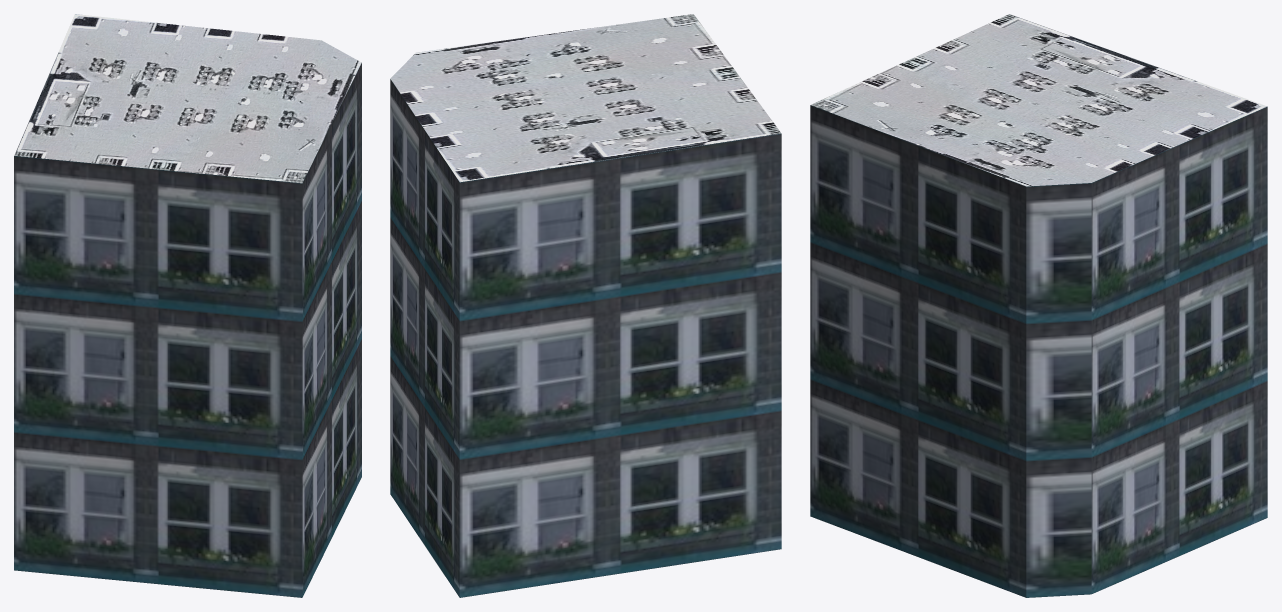
Rendered from ResTex__2163.fbx.
The picture shows the model from 3 angles, left to right: view 1: azimuth 30°, elevation 25°; view 2: azimuth 150°, elevation 25°; view 3: azimuth 270°, elevation 25°; orthographic projection.
Visible parts, largest first — view 1: CityEngineMaterial_11_m, CityEngineMaterial_m; view 2: CityEngineMaterial_11_m, CityEngineMaterial_m; view 3: CityEngineMaterial_11_m, CityEngineMaterial_m.
Boxes of the visible parts, left/top/right/bottom form: CityEngineMaterial_11_m: left=14, top=63, right=361, bottom=597; CityEngineMaterial_m: left=14, top=14, right=361, bottom=183; CityEngineMaterial_11_m: left=390, top=79, right=781, bottom=597; CityEngineMaterial_m: left=390, top=14, right=781, bottom=182; CityEngineMaterial_11_m: left=810, top=105, right=1267, bottom=597; CityEngineMaterial_m: left=811, top=14, right=1267, bottom=186.
Size of the model in its own units: 8.09 by 9 by 9.06.
2 materials, 2 textured.
